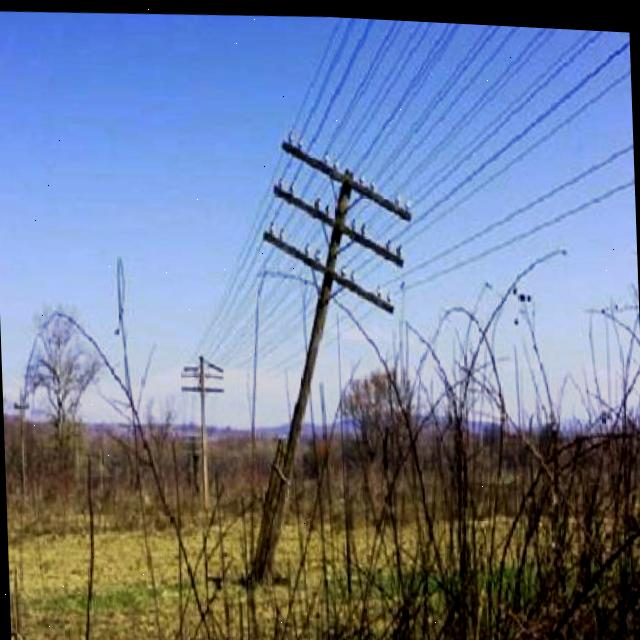poles: (234, 112, 422, 586), (176, 345, 234, 506)
wires: (274, 14, 633, 294), (209, 239, 312, 393)
